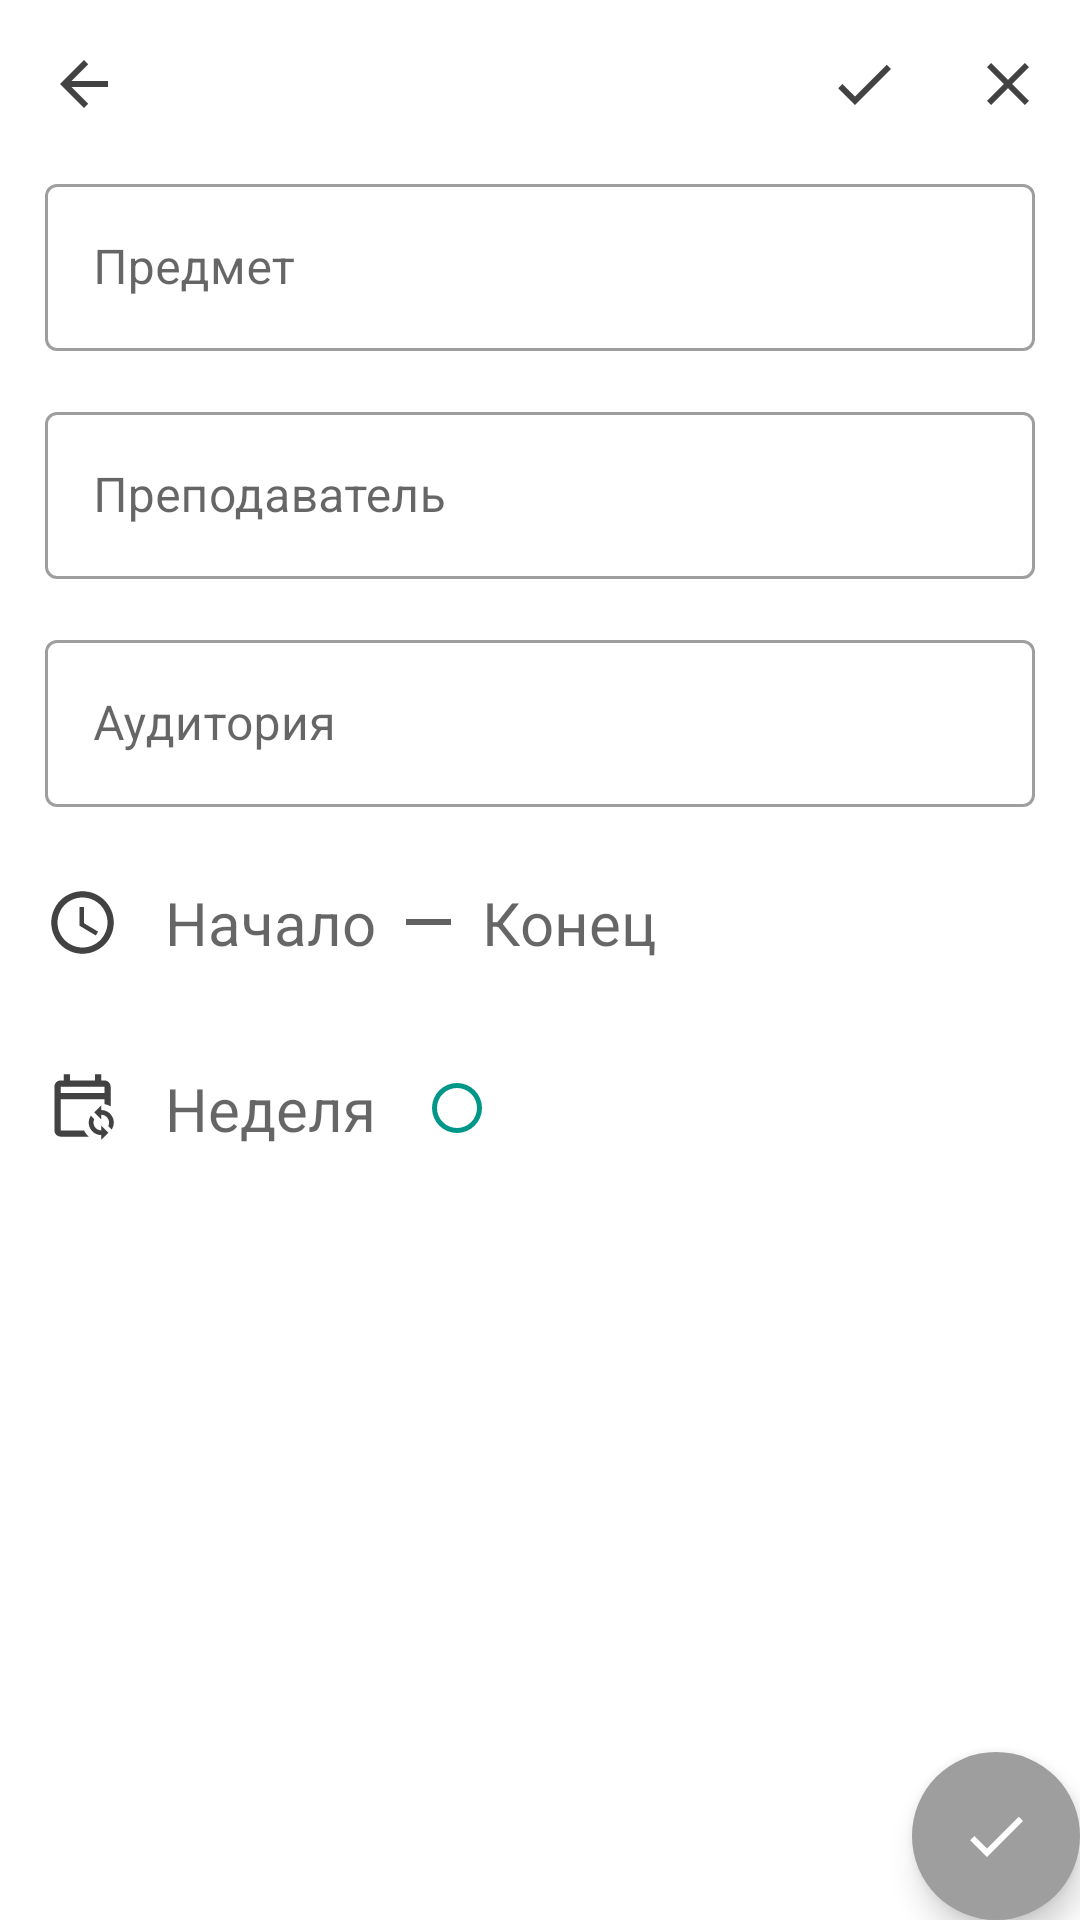

Named icons in this screenshot (1080*1920) and their bounding boxes, box=[x1, y1, x2, y2]:
calendar sync: box=[54, 1074, 114, 1140]
checkbox unselect: box=[432, 1083, 482, 1133]
clock: box=[51, 891, 114, 954]
done fab: box=[912, 1752, 1080, 1920]
